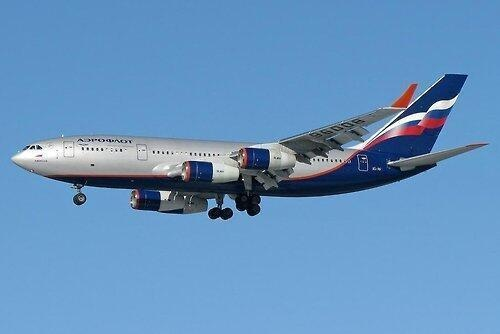airplane: (13, 73, 485, 221)
